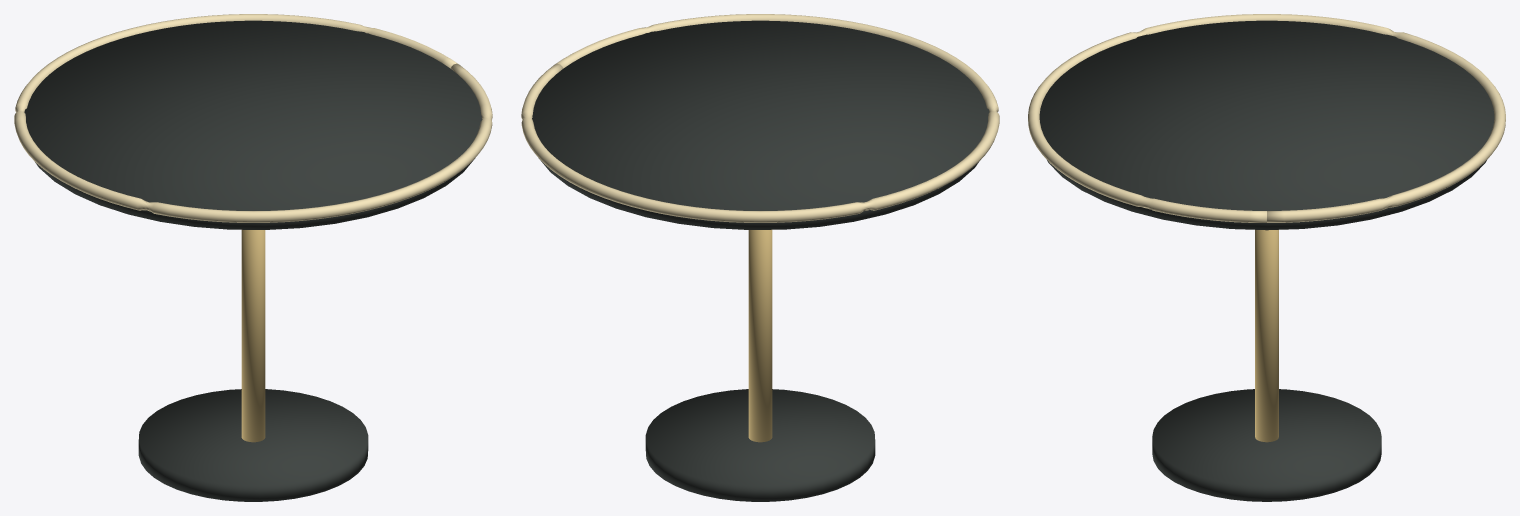
Rendered from cocktail-table.glb.
3 renders of one model, left to right at view 1: azimuth 30°, elevation 25°; view 2: azimuth 150°, elevation 25°; view 3: azimuth 270°, elevation 25°, orthographic.
Visible parts, largest first — view 1: top-0, base-3, rim-1, stem-2; view 2: top-0, base-3, rim-1, stem-2; view 3: top-0, base-3, rim-1, stem-2.
Part boxes in pixels (left/top/right/bottom): top-0: left=24, top=20, right=482, bottom=229; base-3: left=138, top=389, right=368, bottom=501; rim-1: left=14, top=14, right=492, bottom=222; stem-2: left=241, top=229, right=265, bottom=442; top-0: left=532, top=20, right=989, bottom=229; base-3: left=645, top=389, right=875, bottom=501; rim-1: left=521, top=14, right=999, bottom=222; stem-2: left=748, top=229, right=772, bottom=442; top-0: left=1039, top=20, right=1494, bottom=230; base-3: left=1152, top=389, right=1381, bottom=501; rim-1: left=1028, top=14, right=1505, bottom=222; stem-2: left=1255, top=230, right=1278, bottom=442.
Bounding box in the file's own units: 1.33 × 1.05 × 1.33.
